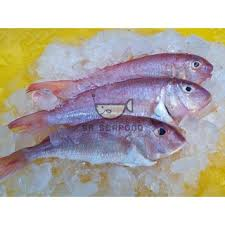Ikan Kerisi: (21, 69, 212, 137), (17, 113, 194, 177), (60, 47, 220, 87)
